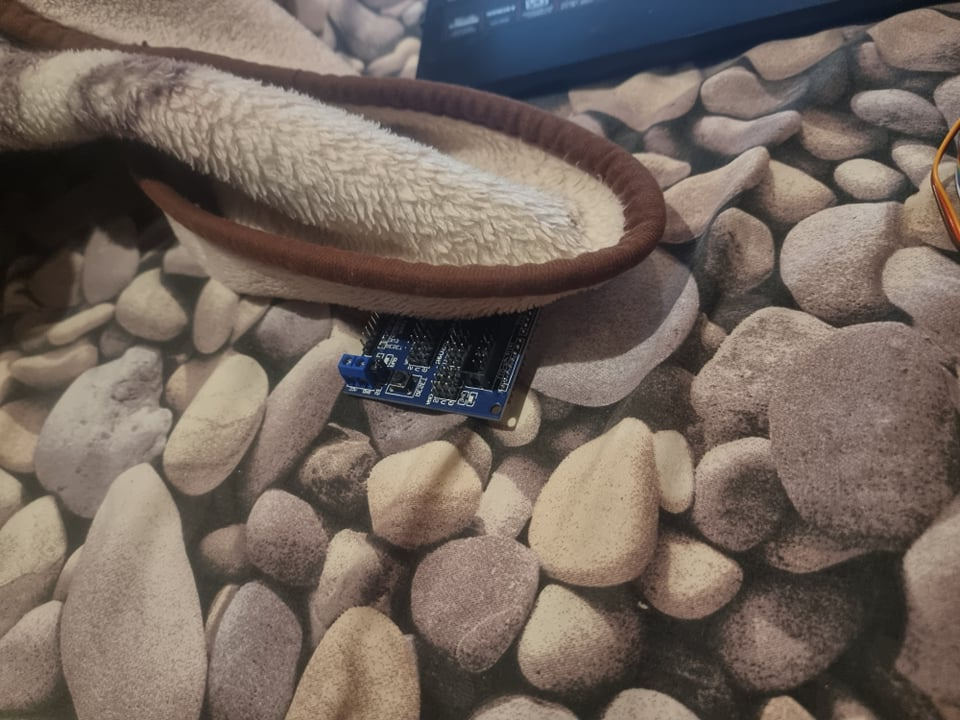5V EXPANSION: (337, 301, 544, 424)
